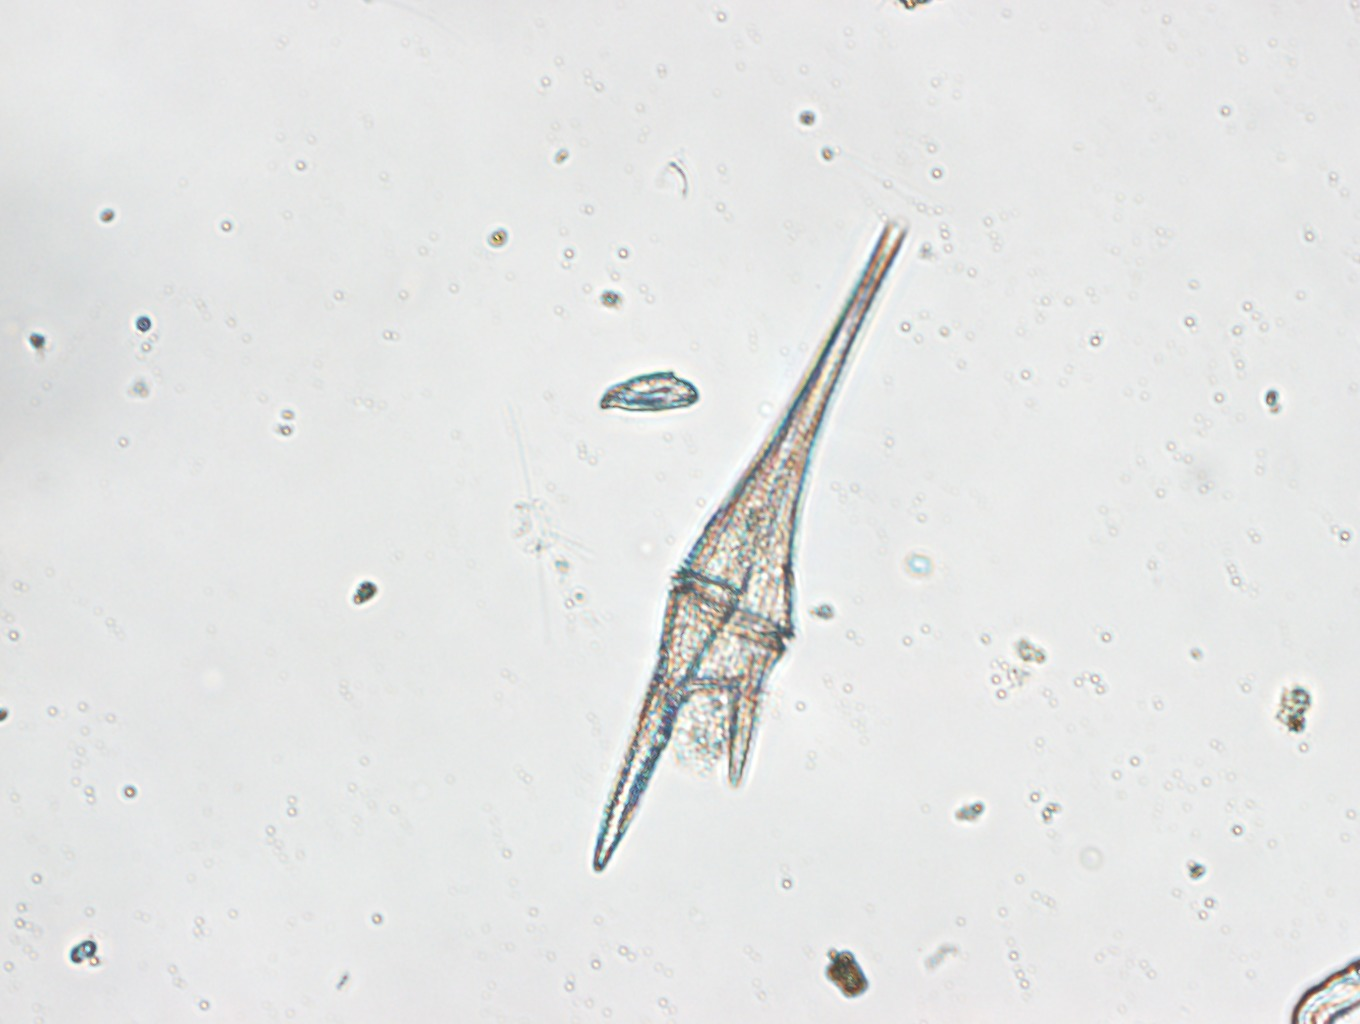ceratium furca: (591, 212, 910, 874)
